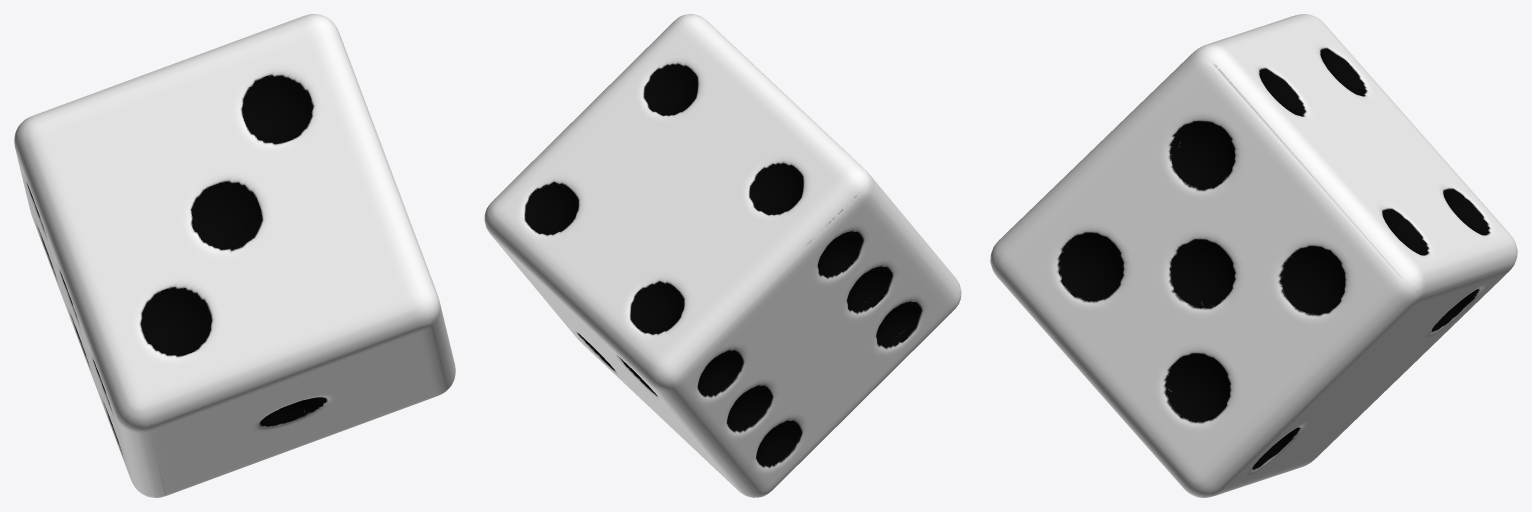
Rendered from Plain Die.glb.
3 views of the same model, side by side, from view 1: azimuth 30°, elevation 25°; view 2: azimuth 150°, elevation 25°; view 3: azimuth 270°, elevation 25° (orthographic). The views are drawn at different scales.
Parts seen in each view (by area): view 1: Cube; view 2: Cube; view 3: Cube.
Boxes of the visible parts, left/top/right/bottom form: Cube: left=14, top=14, right=455, bottom=497; Cube: left=484, top=14, right=961, bottom=497; Cube: left=990, top=14, right=1517, bottom=497.
Size of the model in its own units: 2.57 by 3.09 by 3.11.
1 material, 1 textured.
